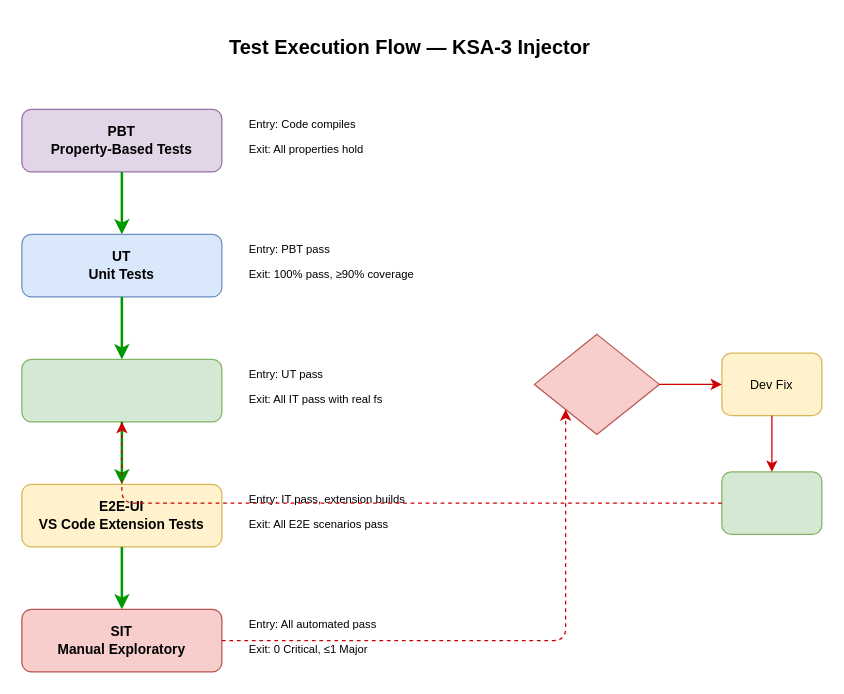
Image size: 844x694. Some labels were removed from this diagram. The box of each missing label's shape, as (x1, y1, x2, y2) in pixels:
Defect Found: (533, 333, 659, 434)
IT Integration Tests: (21, 358, 222, 422)
Retest: (721, 471, 822, 534)
